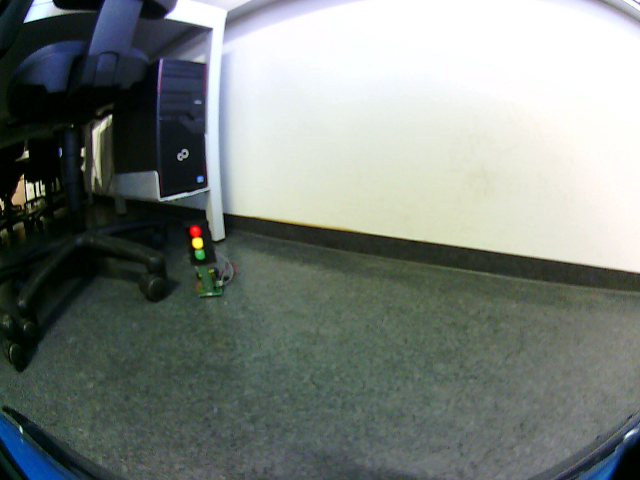red yellow trafficlight: (188, 225, 209, 266)
